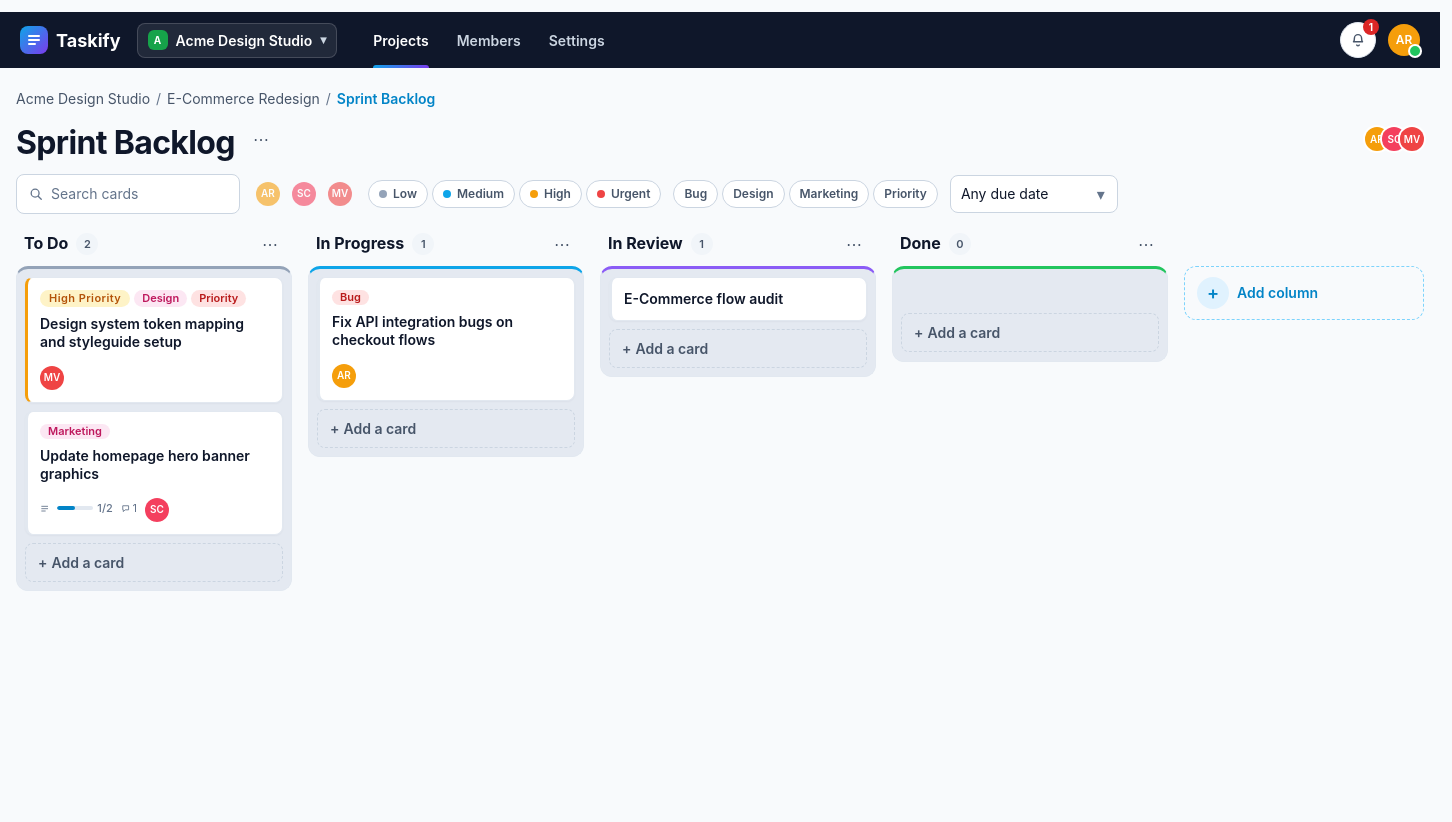
Scenario: BoardPage › renames a column inline through its menu
Click the button named "To Do column actions" at (270, 244), box [256, 230, 284, 258]
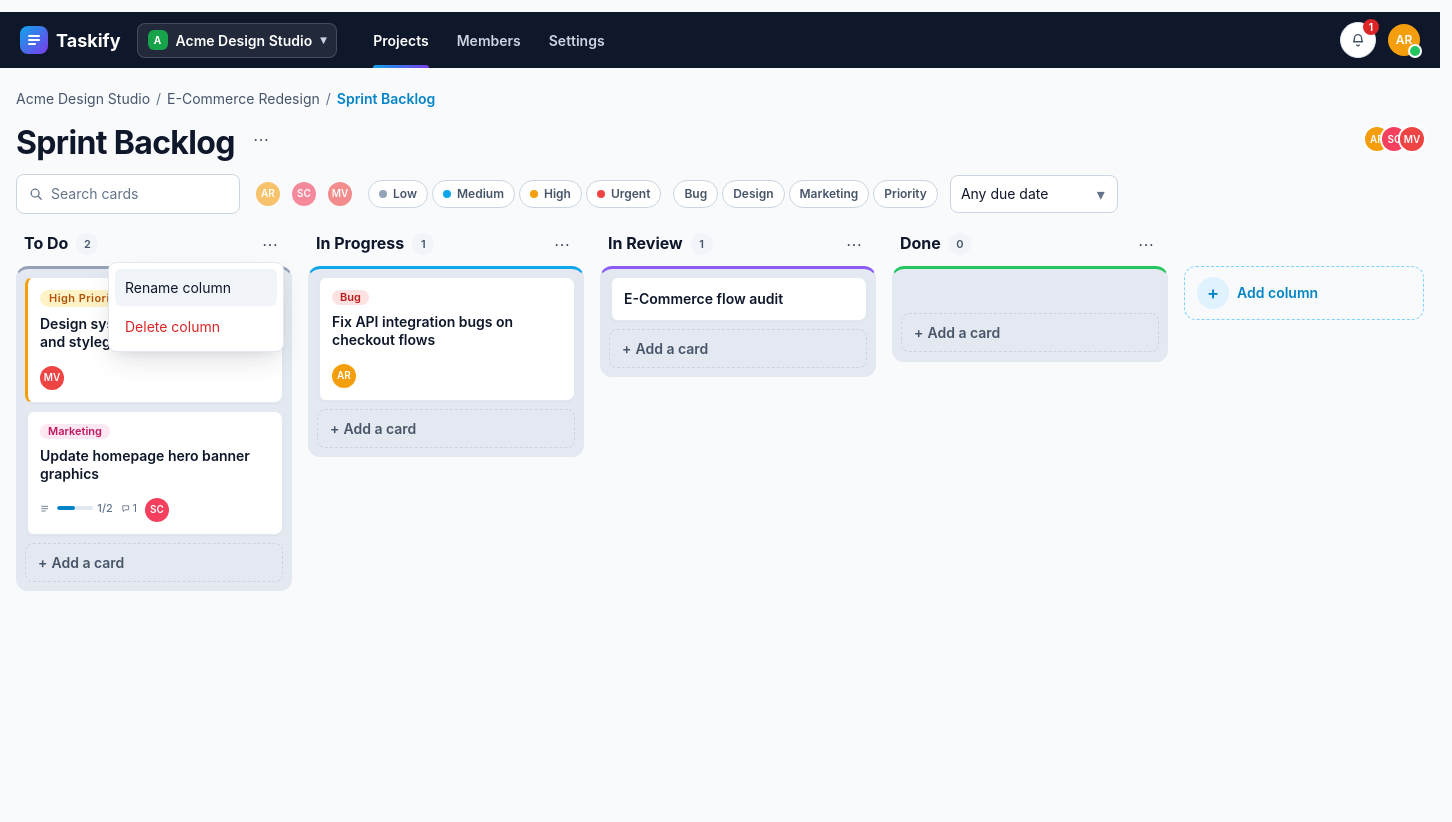
Click the menu item "Rename column" at (196, 287), box [115, 269, 277, 306]
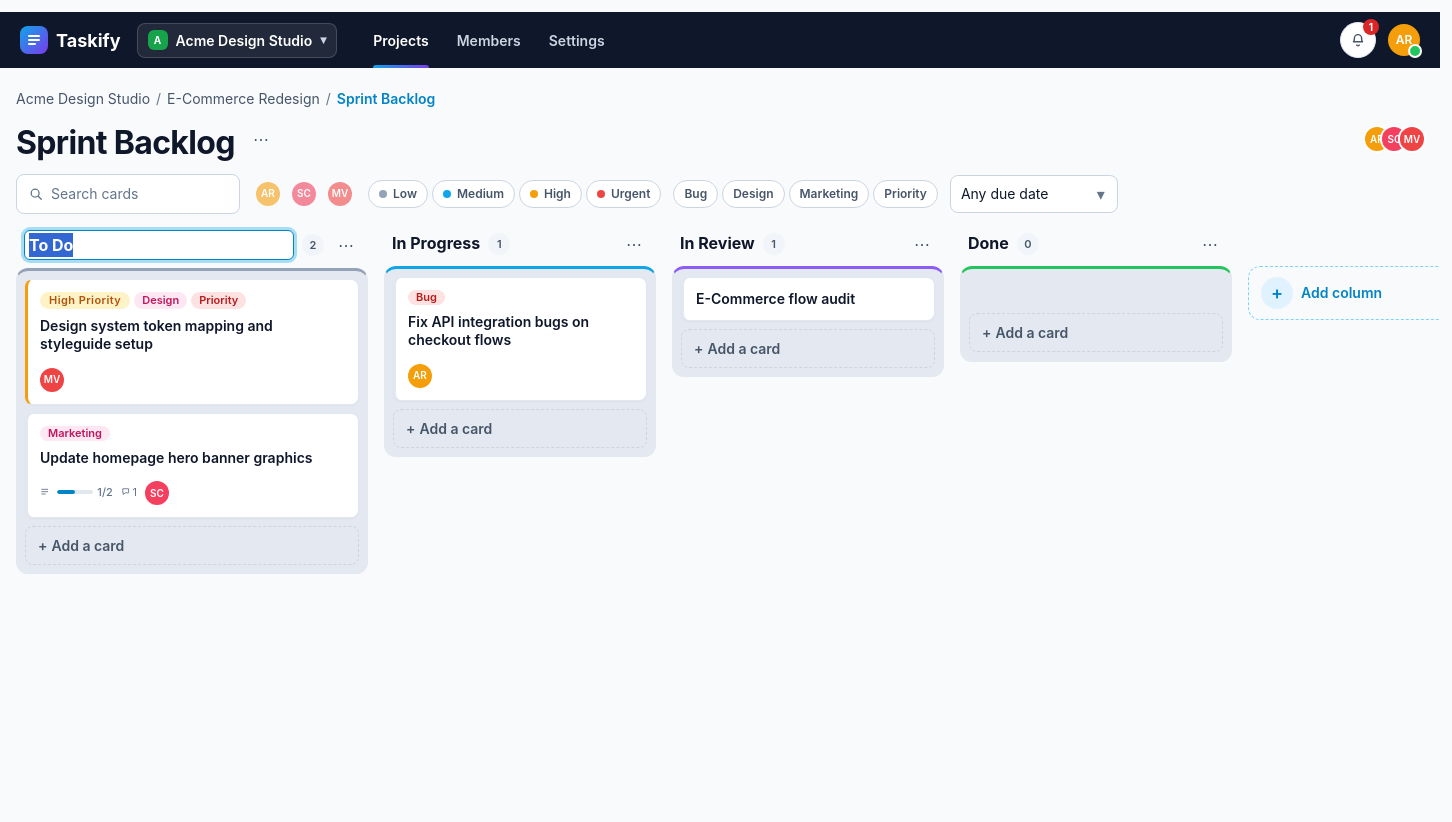
Replace the text in the field named "Rename To Do" with "Blocked" at (159, 245), box [24, 230, 294, 260]
Then press Enter
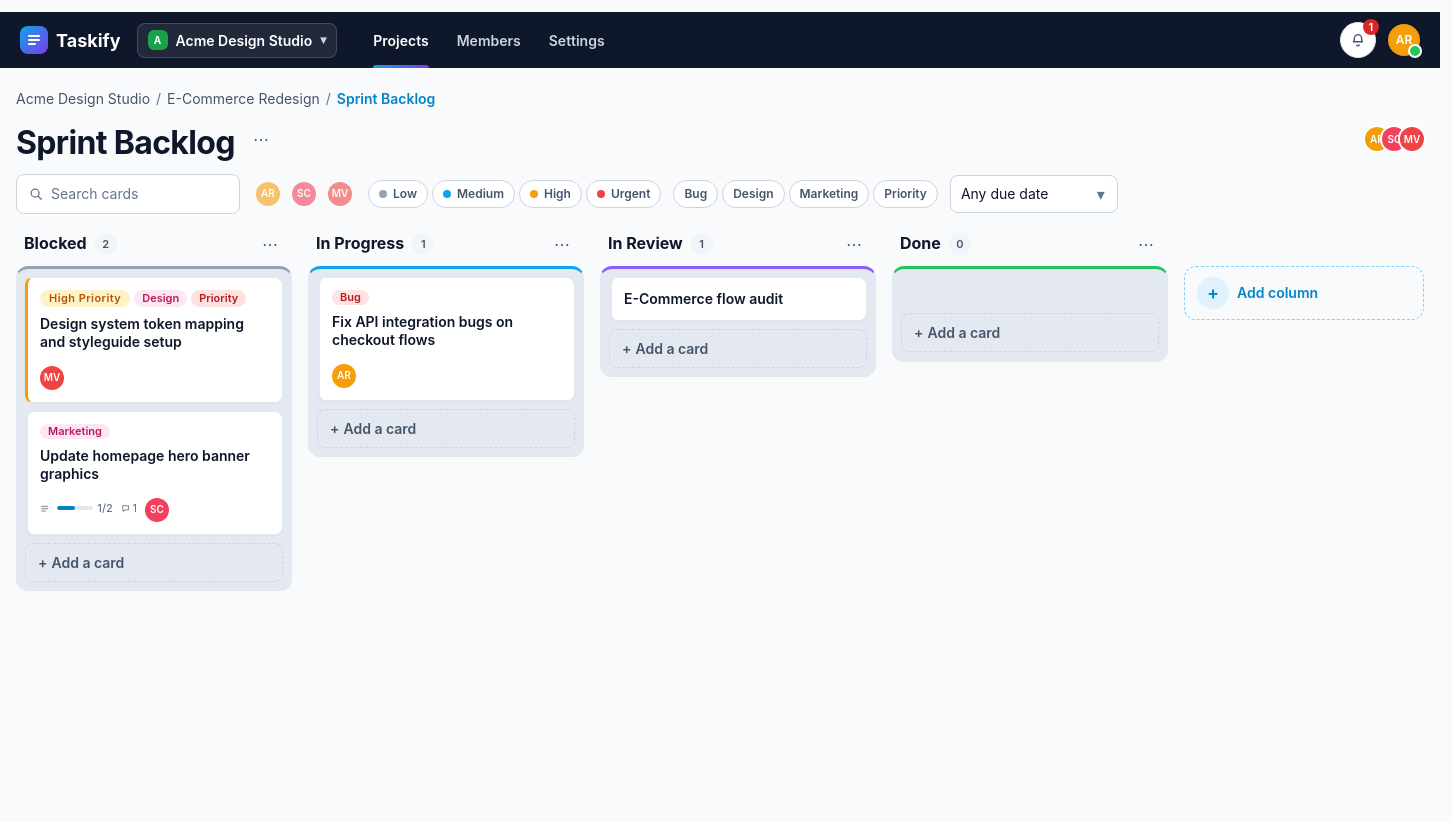
Now the element "Blocked" is shown, box [16, 230, 292, 591]
